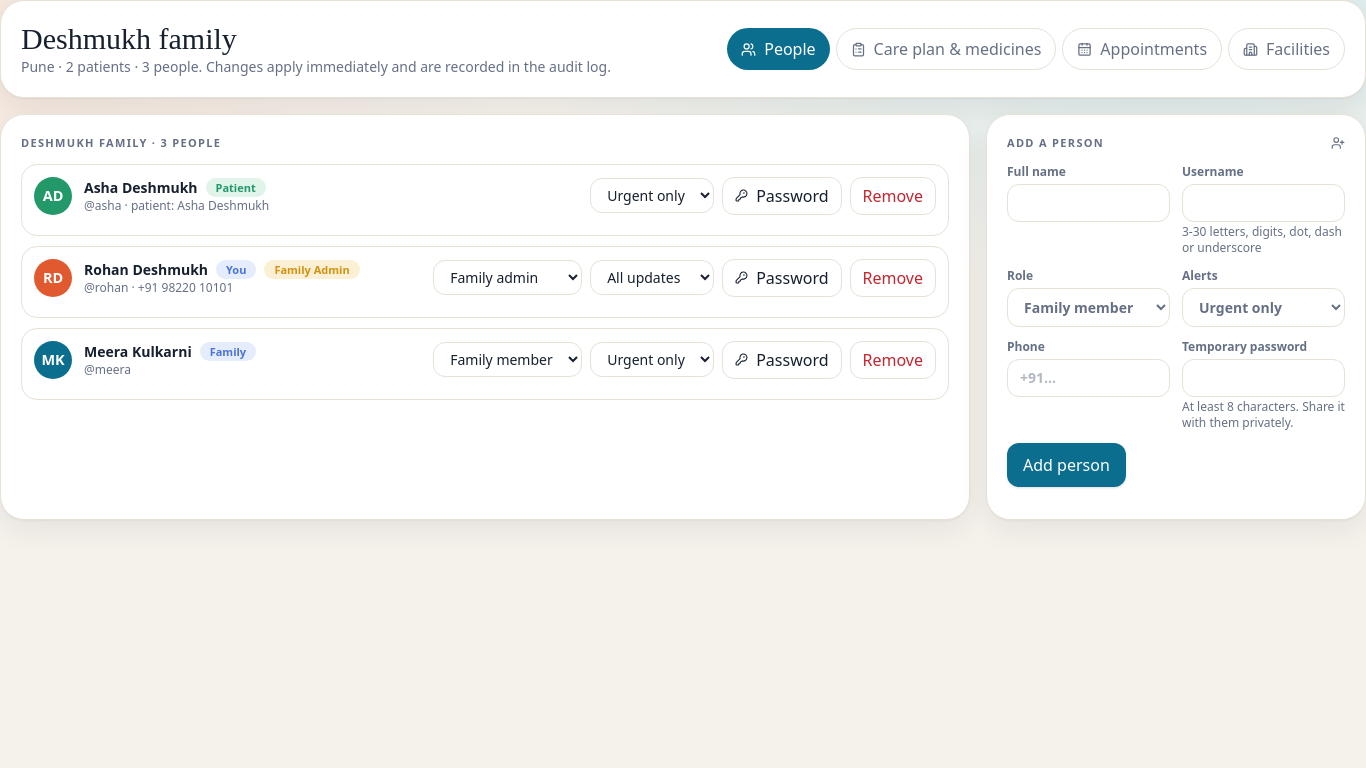
Test case: family admin console › adds a person with a temporary password and reports success
Type "Kiran Deshmukh" into the field labelled "Full name" at (1088, 202), box [1007,184,1170,222]
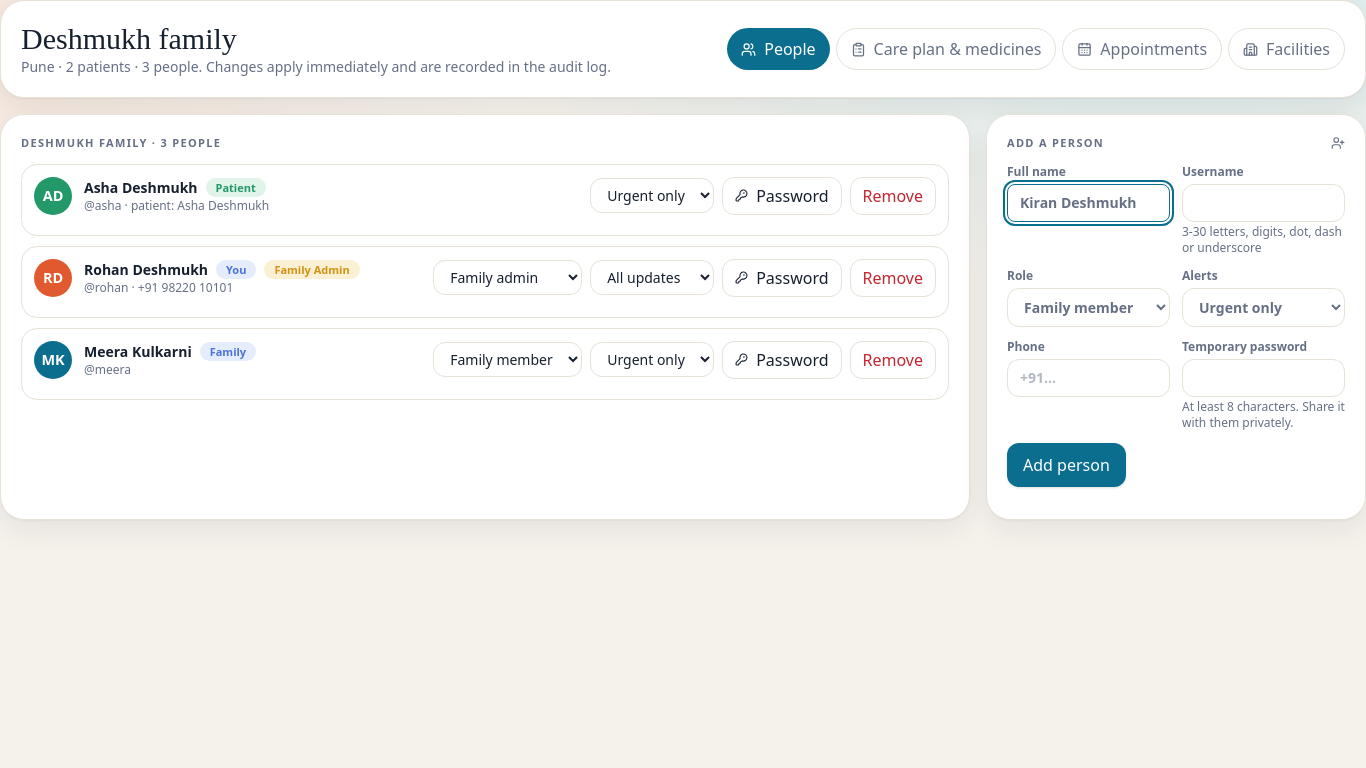
Type "kiran" into the field labelled "Username 3-30 letters, digits, dot, dash or underscore" at (1264, 202), box [1182,184,1345,222]
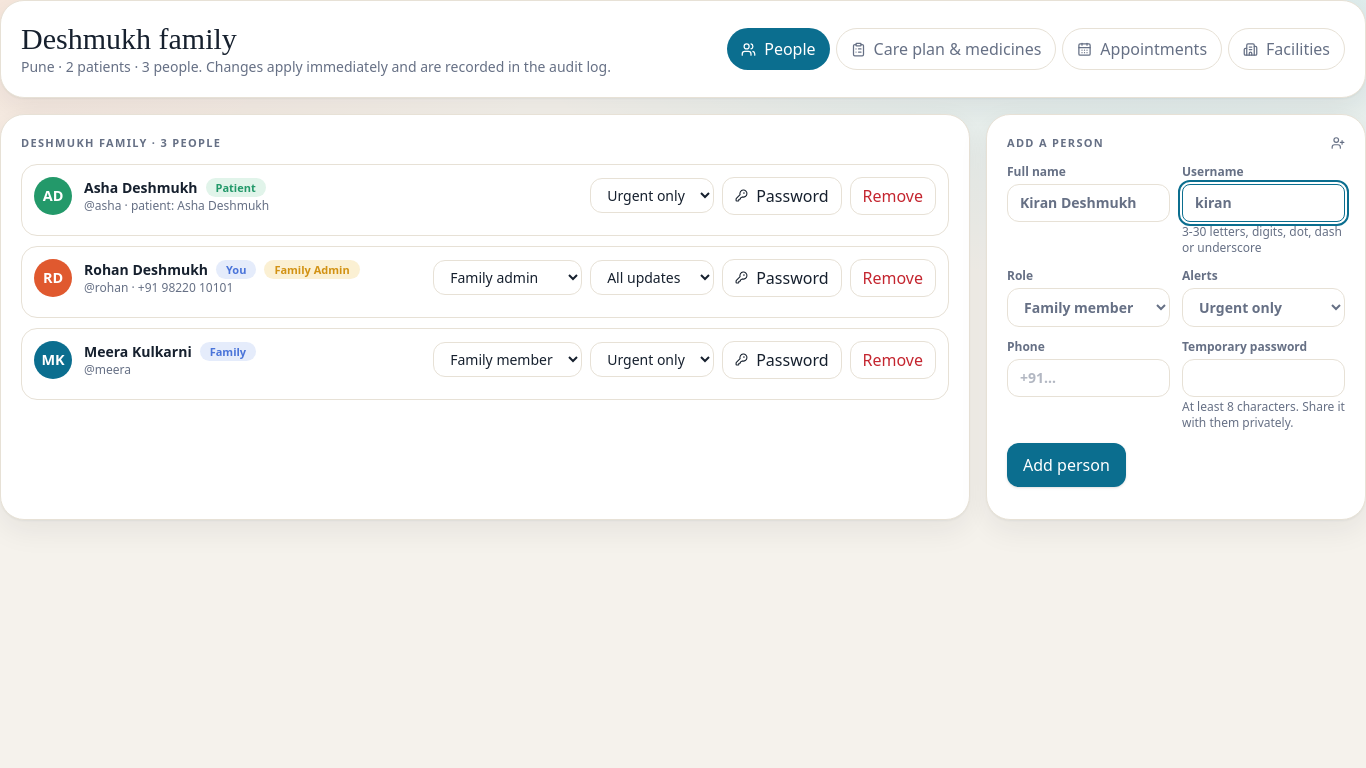
Type "Kiran_2026" into the field labelled "Temporary password" at (1264, 378), box [1182,358,1345,396]
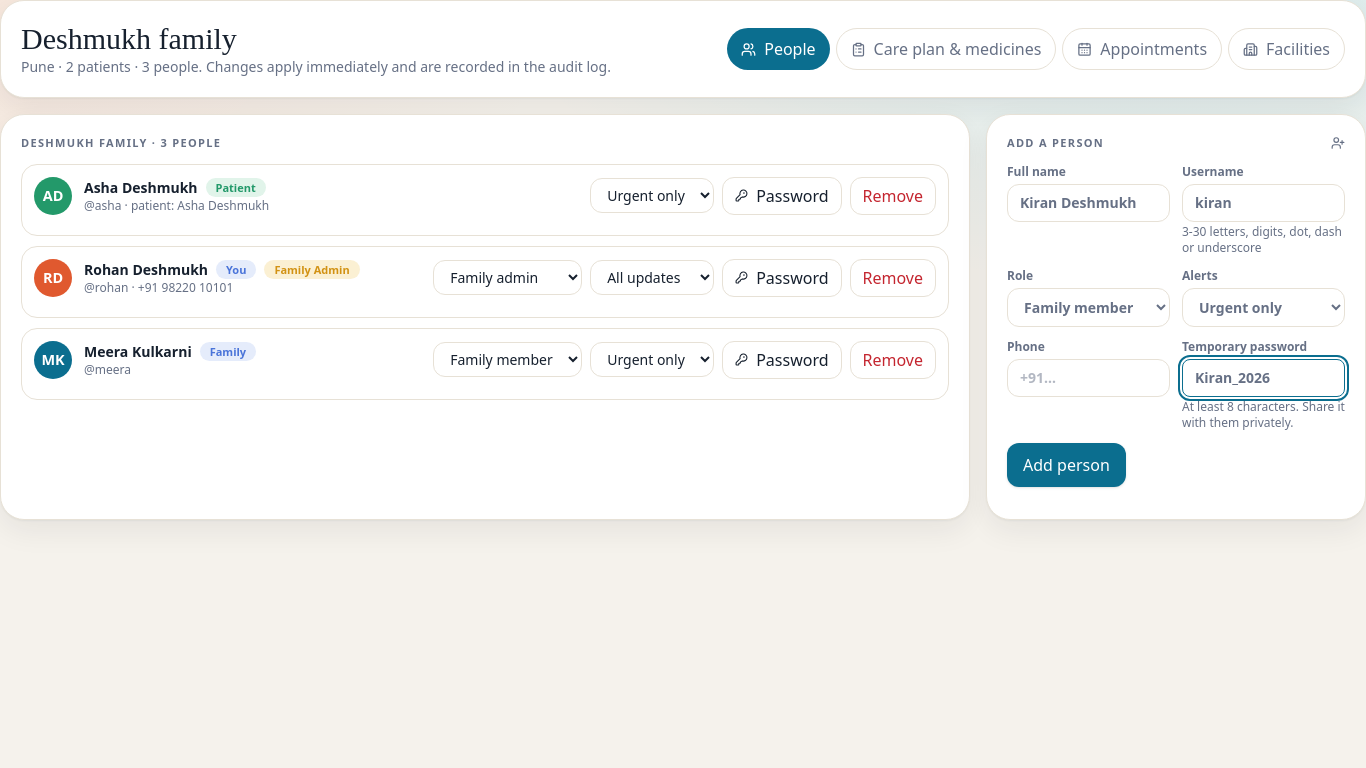
Click the button "Add person" at (1066, 464), box [1007,442,1126,486]
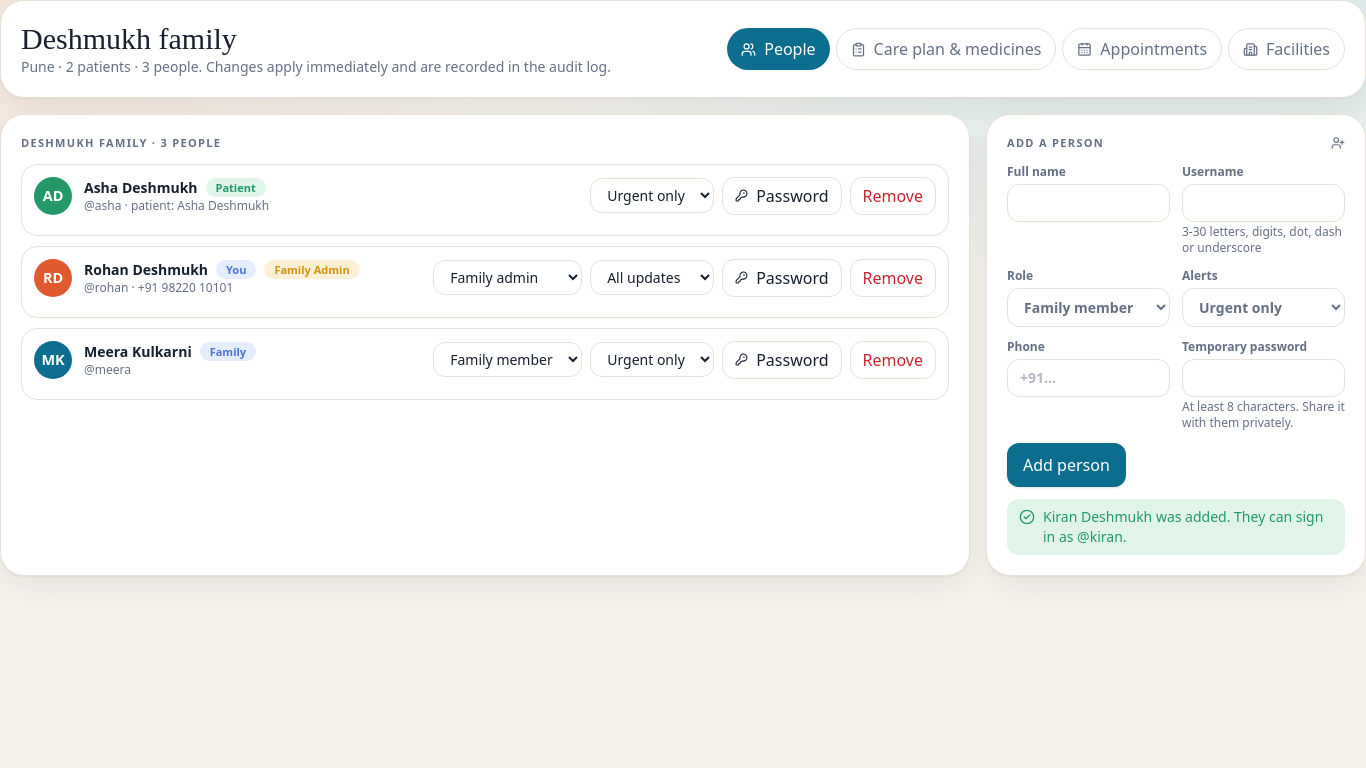
Expected: the text "Kiran Deshmukh was added. They can sign in as @kiran." is shown, [1007,498,1345,554]
